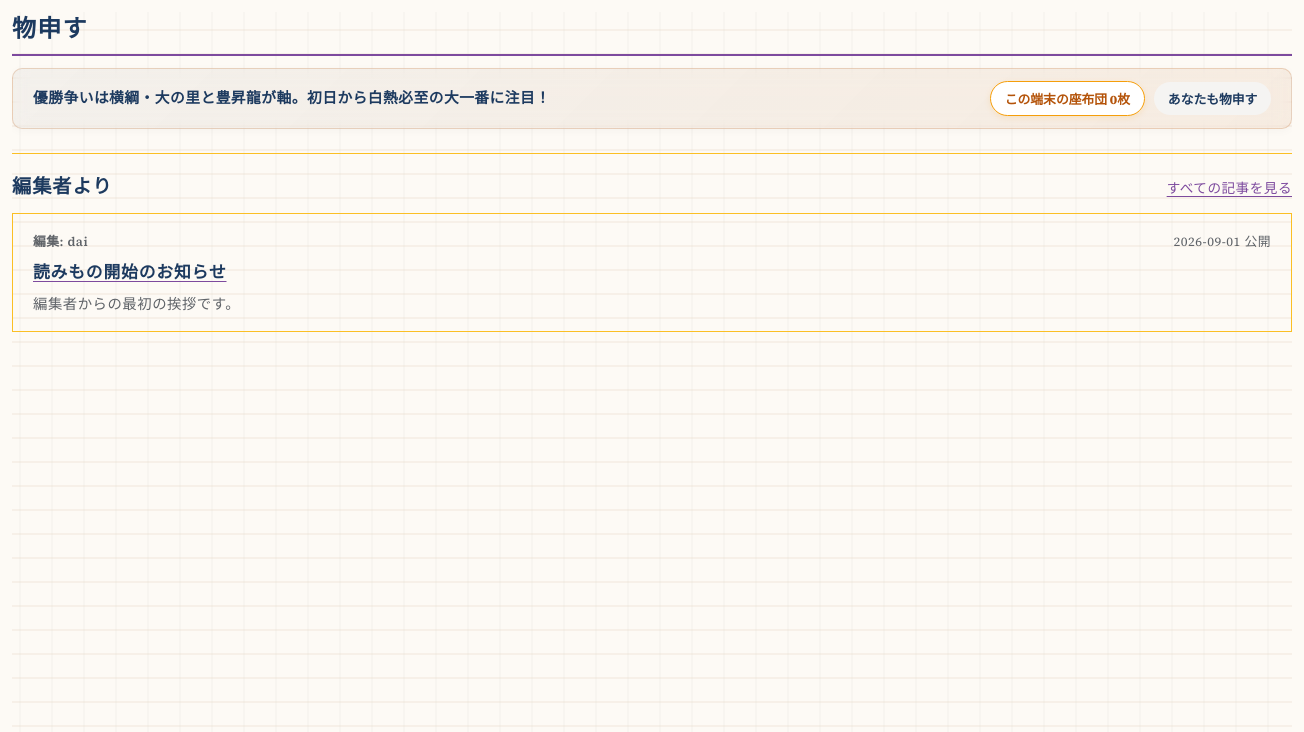
Test: MonomosuSection › shows a manual copy field when sharing and clipboard both fail
What coordinates should you click on to do the following:
click the button "あなたも物申す"
I would click on:
 (1213, 98)
Its box is [1154,82,1271,115].
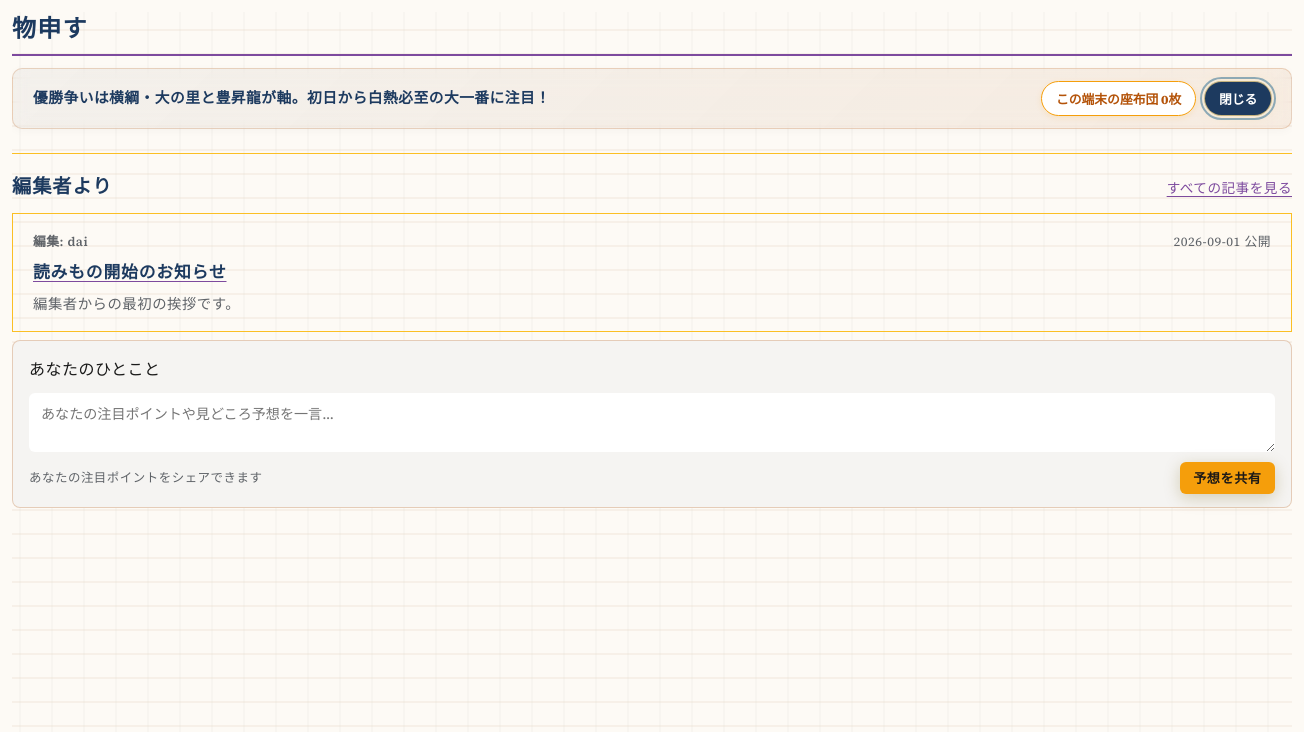
What coordinates should you click on to do the following:
click the button "予想を共有"
I would click on:
 (1227, 478)
Its box is [1180,462,1275,494].
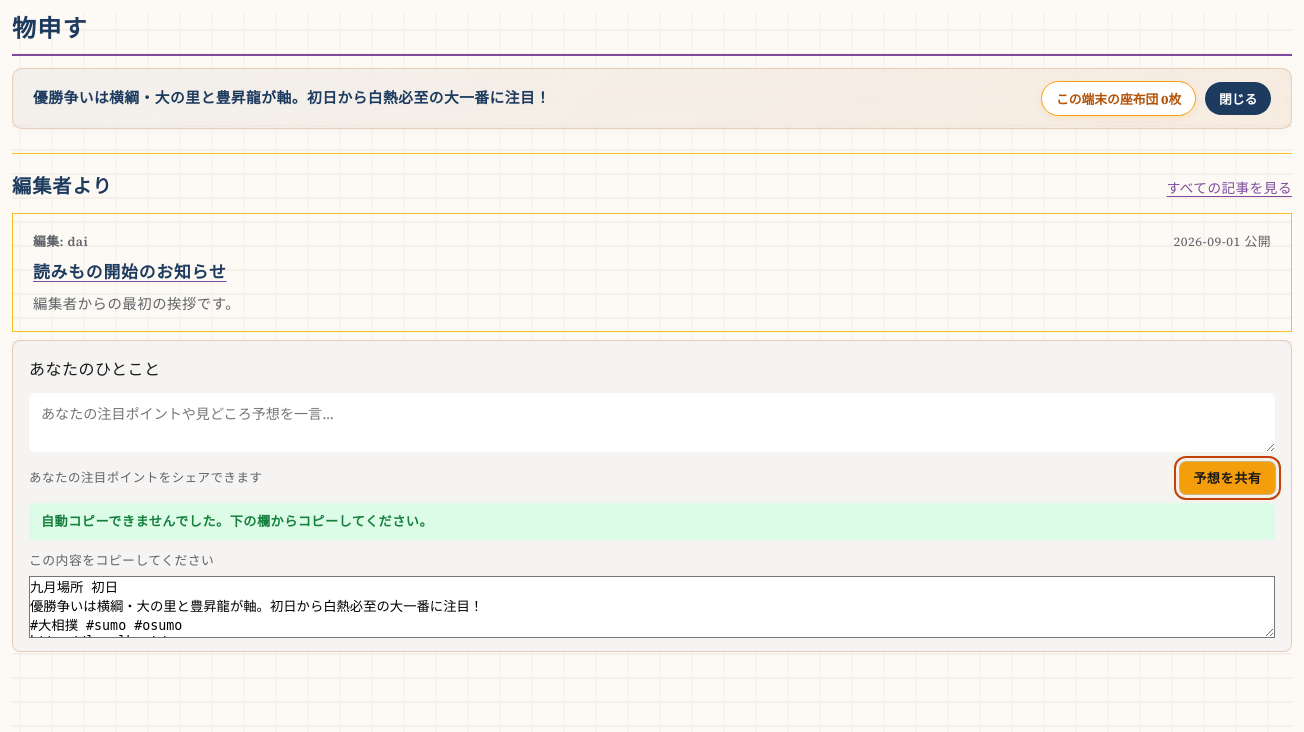
Expected: the message shows "自動コピーできませんでした", [41,512,433,530]
